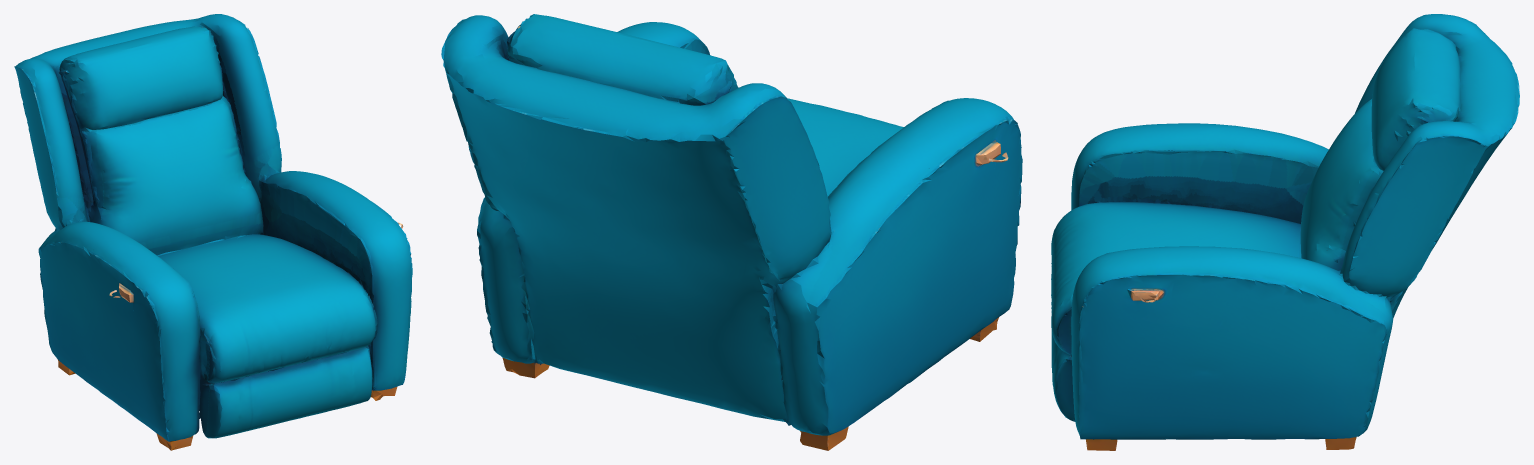
File: chair.glb
3 views of the same model, side by side, from view 1: azimuth 30°, elevation 25°; view 2: azimuth 150°, elevation 25°; view 3: azimuth 270°, elevation 25° (orthographic). The views are drawn at different scales.
Parts seen in each view (by area): view 1: HeroCozyChair; view 2: HeroCozyChair; view 3: HeroCozyChair.
Boxes of the visible parts, x1=… form: HeroCozyChair: x1=14, y1=14, x2=412, y2=450; HeroCozyChair: x1=441, y1=14, x2=1022, y2=450; HeroCozyChair: x1=1051, y1=14, x2=1519, y2=450.
Bounding box in the file's own units: 1.59 × 1.44 × 1.89.
Materials: 1 (1 with a texture image).
